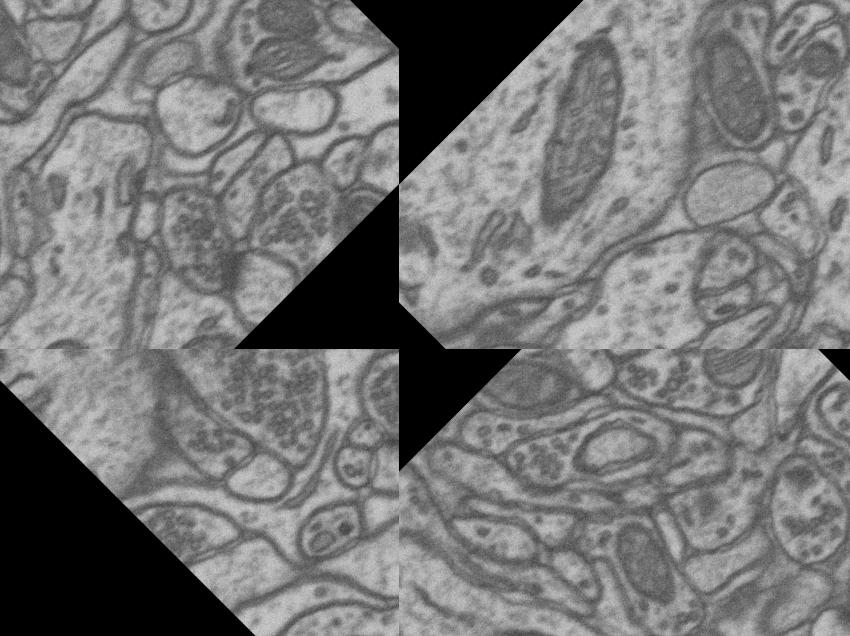mitochondria: (468, 17, 689, 238), (652, 5, 812, 165), (594, 510, 701, 617), (471, 586, 677, 636), (475, 349, 581, 444), (240, 13, 326, 100), (773, 11, 850, 104), (0, 86, 38, 268), (306, 179, 388, 261), (684, 349, 783, 408), (245, 0, 333, 60), (0, 0, 54, 95), (132, 308, 244, 349), (821, 214, 850, 335), (461, 318, 572, 349), (288, 605, 399, 636), (7, 321, 105, 349)
